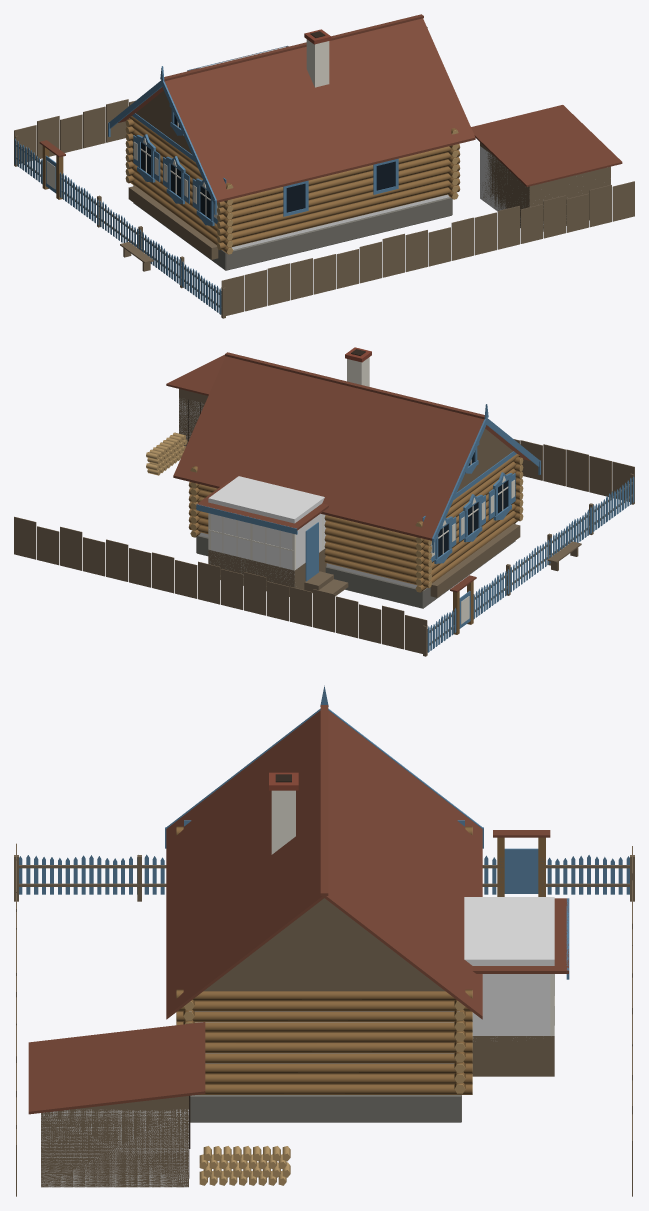
File: izba-2.glb
3 renders of one model, top to bottom at view 1: azimuth 30°, elevation 25°; view 2: azimuth 150°, elevation 25°; view 3: azimuth 270°, elevation 25°, orthographic. The views are drawn at different scales.
Parts seen in each view (by area): view 1: 05_#7a4a3a, 04_#7a6a56, 02_#8a6a44, 06_paint0, 00_#77756e, 08_#e6e2d6, 07_#1c2630, 03_#b89868, solid.001, solid.002; view 2: 05_#7a4a3a, 04_#7a6a56, 06_paint0, 02_#8a6a44, solid, 08_#e6e2d6, 00_#77756e, 03_#b89868, 07_#1c2630; view 3: 05_#7a4a3a, 04_#7a6a56, 02_#8a6a44, solid, 00_#77756e, 06_paint0, solid.001, 03_#b89868, 08_#e6e2d6, solid.002.
Part boxes in pixels (<box>): 05_#7a4a3a: <box>39,14,622,202</box>; 04_#7a6a56: <box>14,27,634,318</box>; 02_#8a6a44: <box>42,116,460,253</box>; 06_paint0: <box>14,45,398,314</box>; 00_#77756e: <box>133,185,452,270</box>; 08_#e6e2d6: <box>46,39,329,218</box>; 07_#1c2630: <box>141,114,395,218</box>; 03_#b89868: <box>125,120,458,254</box>; solid.001: <box>480,146,543,230</box>; solid.002: <box>231,194,449,249</box>; 05_#7a4a3a: <box>166,352,530,592</box>; 04_#7a6a56: <box>14,389,634,656</box>; 06_paint0: <box>196,404,634,652</box>; 02_#8a6a44: <box>188,454,521,634</box>; solid: <box>208,476,325,582</box>; 08_#e6e2d6: <box>208,357,514,624</box>; 00_#77756e: <box>196,523,515,608</box>; 03_#b89868: <box>146,432,523,592</box>; 07_#1c2630: <box>438,452,507,556</box>; 05_#7a4a3a: <box>28,705,568,1114</box>; 04_#7a6a56: <box>14,843,634,1196</box>; 02_#8a6a44: <box>176,826,545,1094</box>; solid: <box>464,897,554,1038</box>; 00_#77756e: <box>190,1095,461,1122</box>; 06_paint0: <box>19,685,629,979</box>; solid.001: <box>41,1109,188,1187</box>; 03_#b89868: <box>176,827,472,1185</box>; 08_#e6e2d6: <box>271,790,554,1035</box>; solid.002: <box>189,1011,459,1063</box>.
Bounding box in the file's own units: 17.74 × 7.29 × 15.12.
